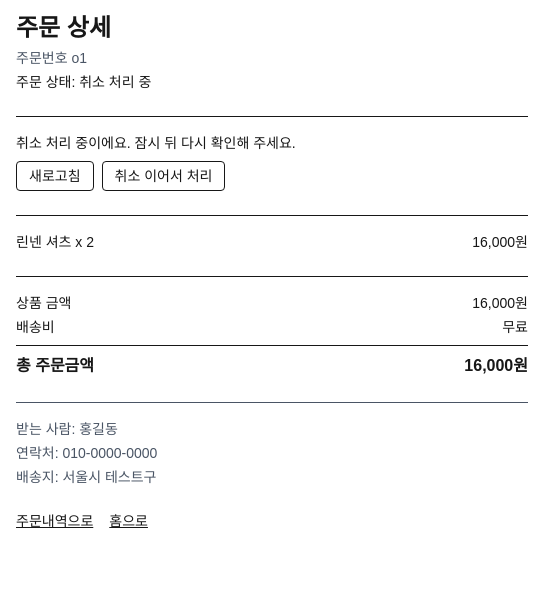
Test: 주문 취소 흐름 › 실패: 판매자 환불이 진행 중이라 409면 배송 안내 문구를 보이고 다시 누를 수 있다
Click the button "취소 이어서 처리": (164, 176) [102,161,226,191]
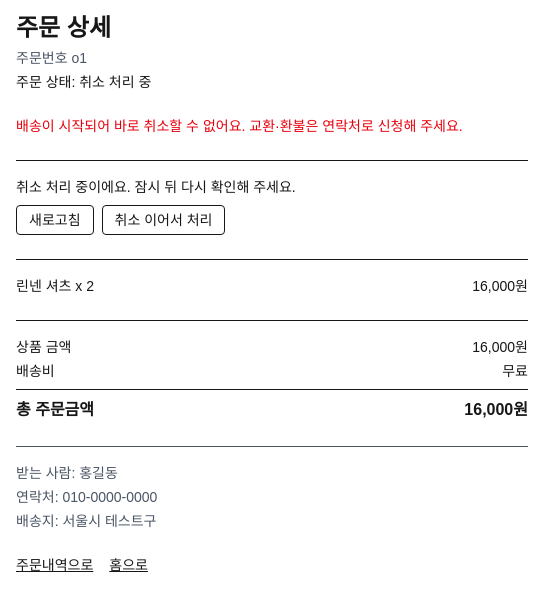
Expected: the button "취소 이어서 처리" is enabled, [102,205,226,235]
Now the message "배송이 시작되어 바로 취소할 수 없어요. 교환·환불은 연락처로 신청해 주세요." is shown, box [16,116,528,136]
